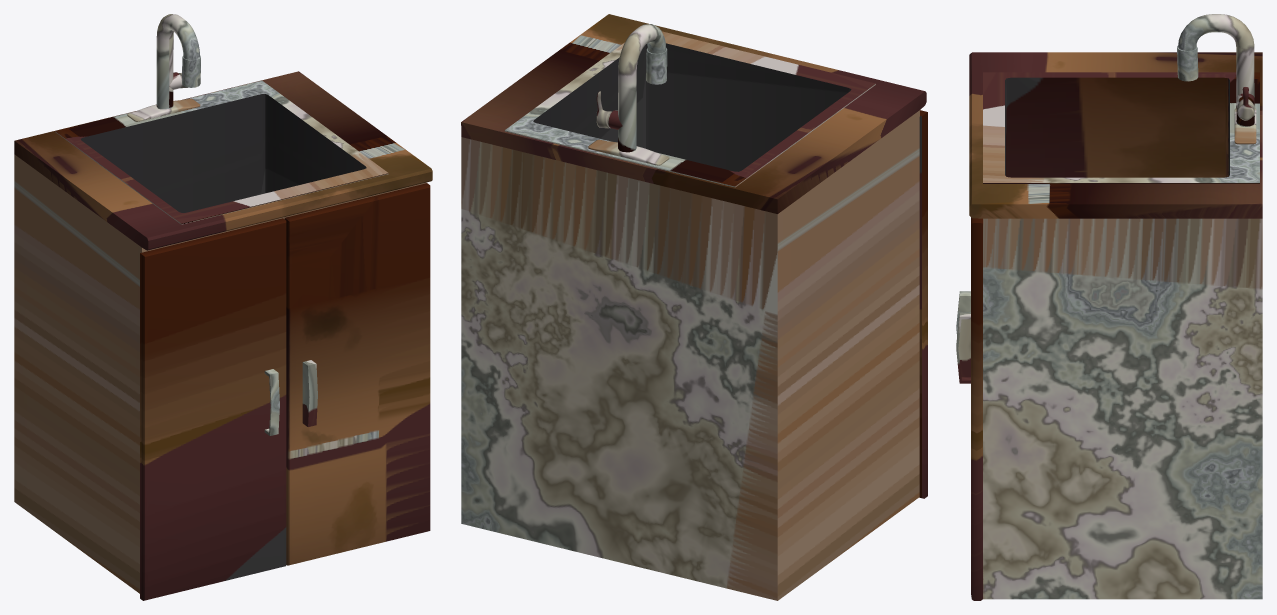
File: contoir 4.fbx
3 renders of one model, left to right at view 1: azimuth 30°, elevation 25°; view 2: azimuth 150°, elevation 25°; view 3: azimuth 270°, elevation 25°, orthographic. The views are drawn at different scales.
Parts seen in each view (by area): view 1: Line001; view 2: Line001; view 3: Line001.
Boxes of the visible parts, x1,y1,x2,y2 form: Line001: (14,14,432,600); Line001: (461,14,927,600); Line001: (956,14,1262,600).
Size of the model in its own units: 27.87 by 43.22 by 23.5.
